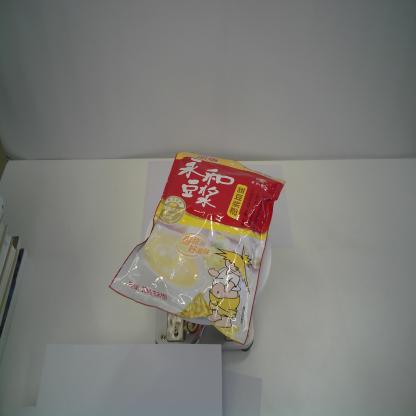Instant Drink: (108, 148, 287, 345)
